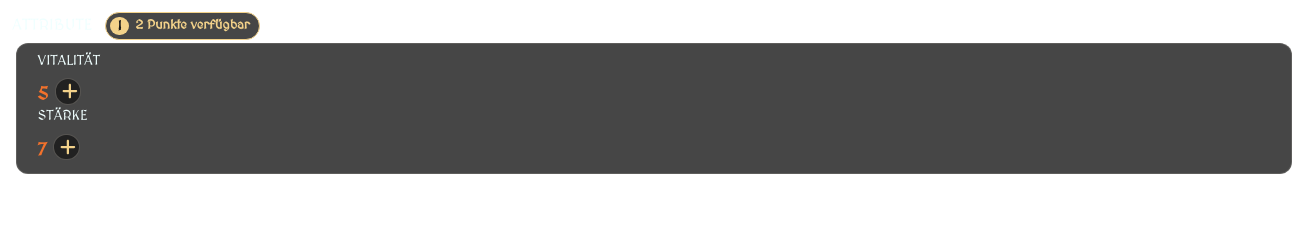
shows several points and an explicit error with a retry
This screenshot has width=1292, height=230.
Expected: the message shows "2 Punkte verfügbar", [105,12,260,40]
What coordinates should you click on to do the following:
click the button named "Vitalität um 1 erhöhen"
I would click on:
 (68, 92)
Its box is [55,78,81,105].
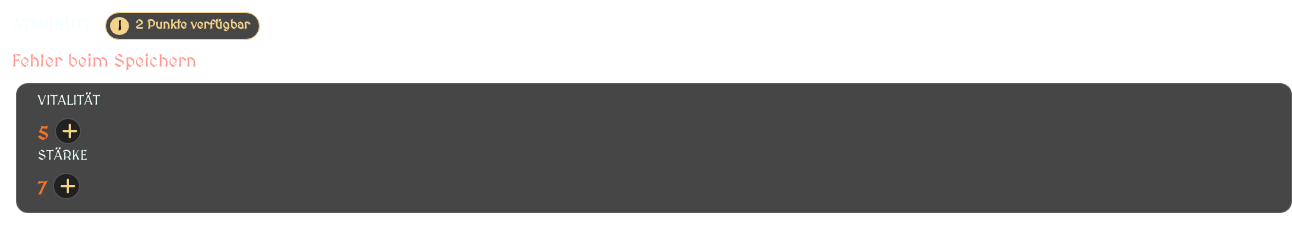
Now the message "Fehler beim Speichern" is shown, box [12,51,196,72]
What coordinates should you click on to do the following:
click the button named "Vitalität um 1 erhöhen"
I would click on:
 (68, 131)
Its box is [55,118,81,144].
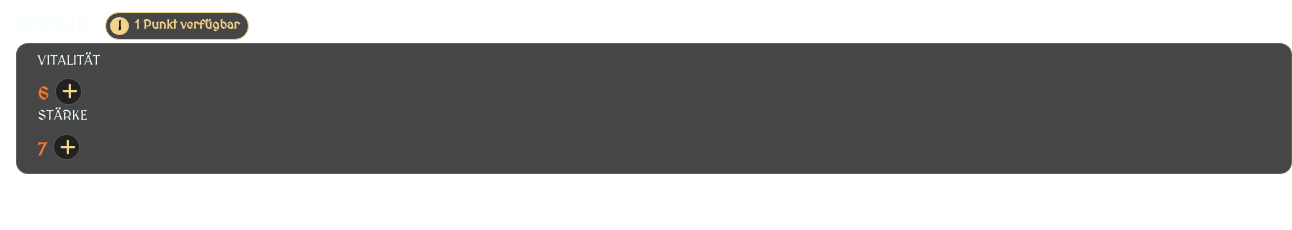
Now the message shows "1 Punkt verfügbar", box [105,12,249,40]
Now the message "Fehler beim Speichern" is gone
